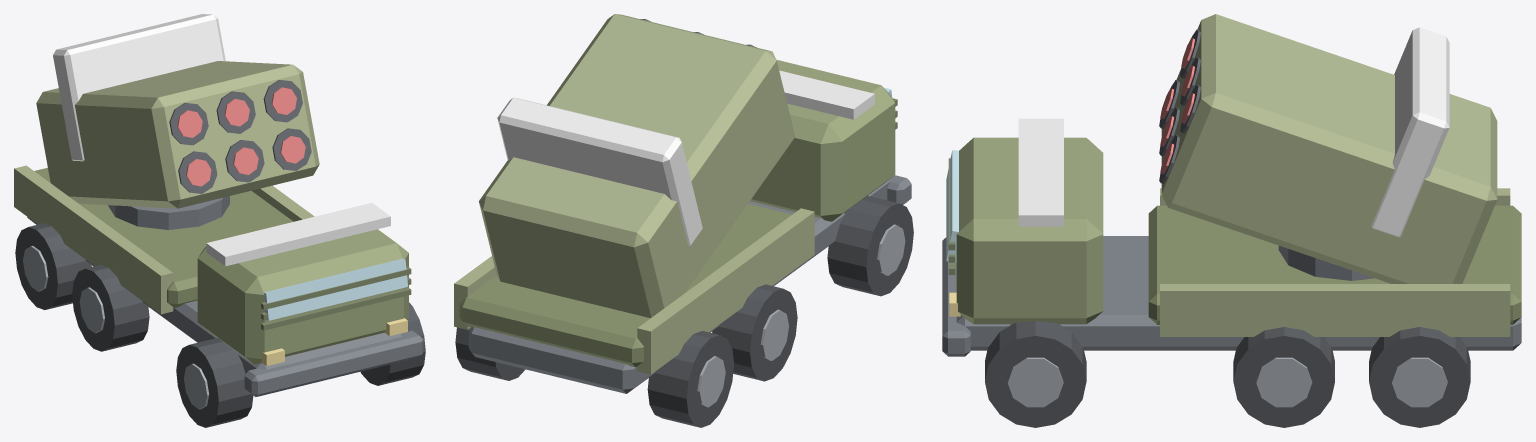
The model's file is mlrs.glb.
3 renders of one model, left to right at view 1: azimuth 30°, elevation 25°; view 2: azimuth 150°, elevation 25°; view 3: azimuth 270°, elevation 25°, orthographic. The views are drawn at different scales.
Visible parts, largest first — view 1: main, turret; view 2: turret, main; view 3: main, turret.
Part boxes in pixels (bbox=[...]): main: bbox=[14, 165, 425, 427]; turret: bbox=[36, 14, 319, 229]; turret: bbox=[479, 14, 795, 318]; main: bbox=[454, 59, 913, 427]; main: bbox=[942, 118, 1521, 427]; turret: bbox=[1159, 14, 1497, 283].
Size of the model in its own units: 0.515 by 0.6139 by 1.02.
